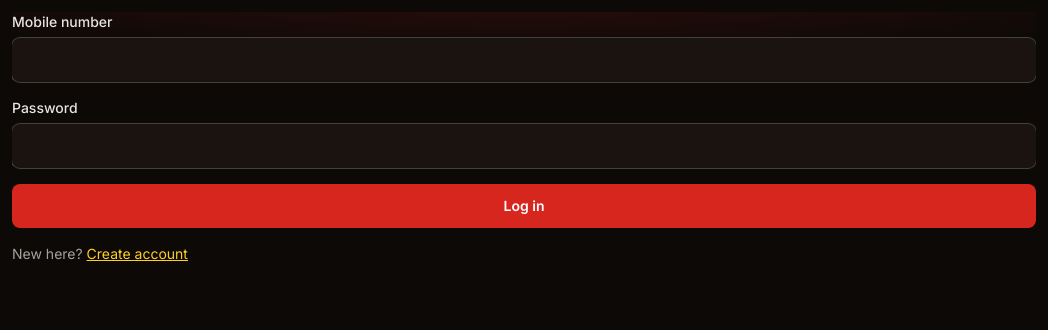
Test case: LoginForm › shows the server message for wrong credentials and stays on the page
The width and height of the screenshot is (1048, 330).
Type "03001234567" into the field labelled "Mobile number" at x=524, y=60, box [12, 38, 1036, 82]
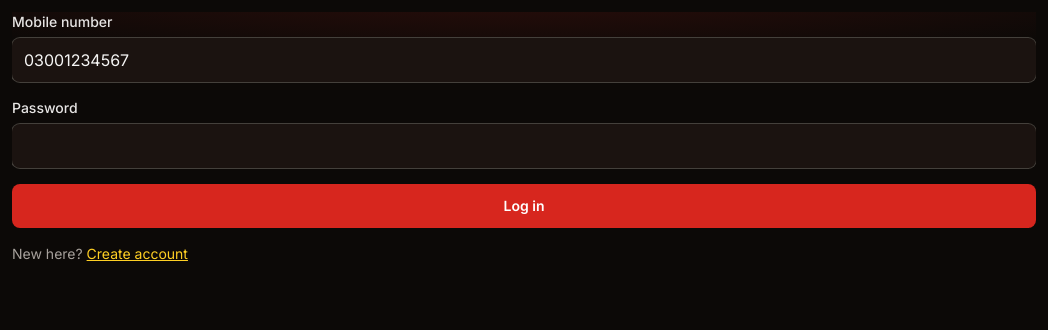
Type "wrong" into the password field labelled "Password" at x=524, y=146, box [12, 124, 1036, 168]
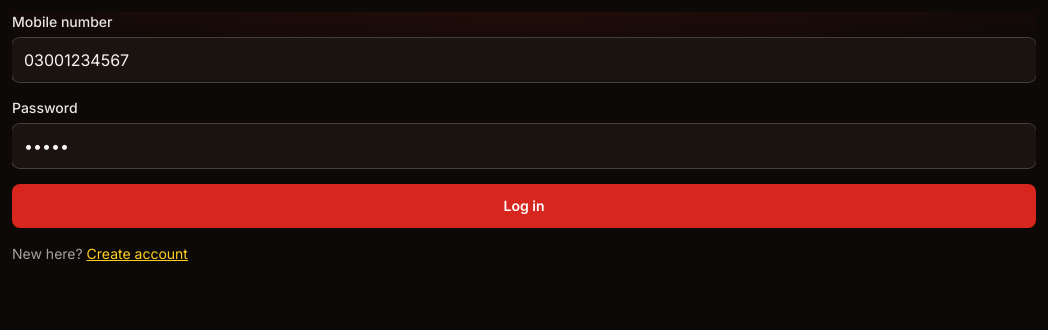
Click the button "Log in" at x=524, y=206, box [12, 184, 1036, 228]
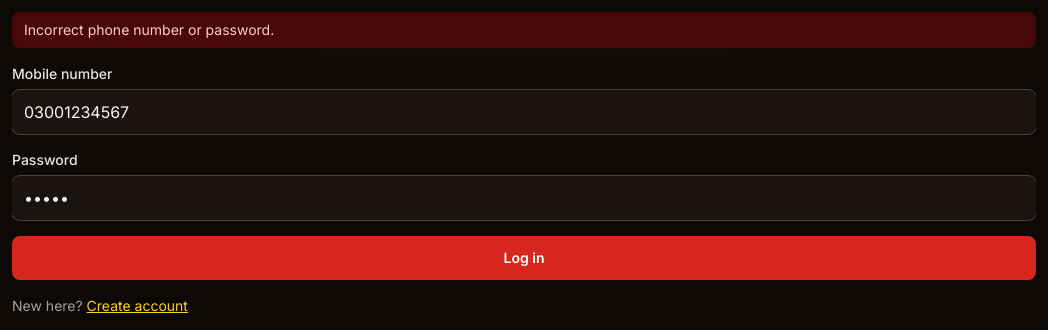
Expected: the text "Incorrect phone number or password." is shown, [12, 12, 1036, 48]
